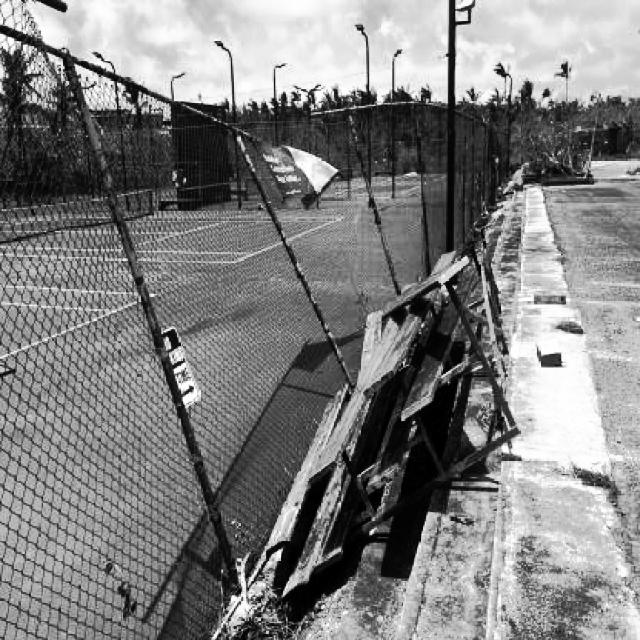anomaly-fence: (25, 0, 515, 630)
